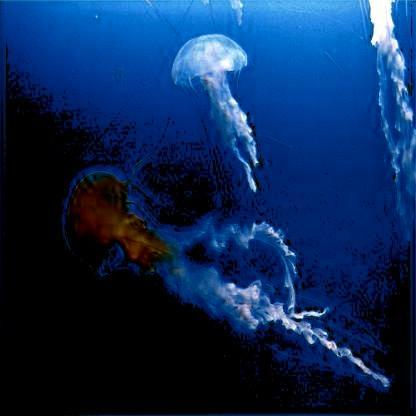Mosaic: (68, 172, 390, 390), (171, 33, 259, 192), (360, 0, 416, 220)
